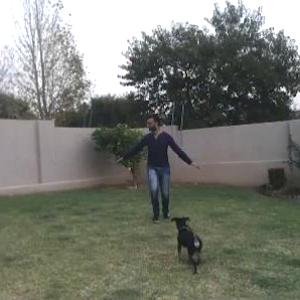land: (113, 110, 218, 227)
